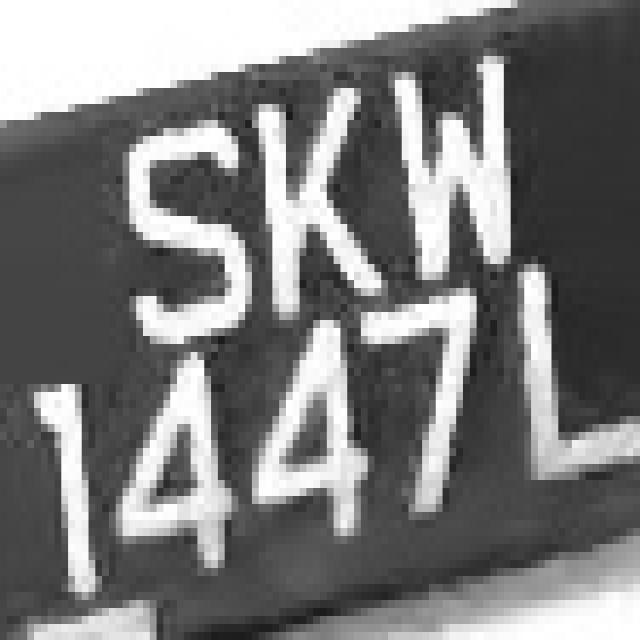1: (14, 344, 129, 616)
4: (238, 328, 408, 576), (102, 336, 252, 600)
7: (347, 280, 490, 552)
K: (238, 80, 395, 320)
L: (5, 4, 7, 6)
S: (115, 96, 258, 360)
W: (368, 72, 531, 296)
